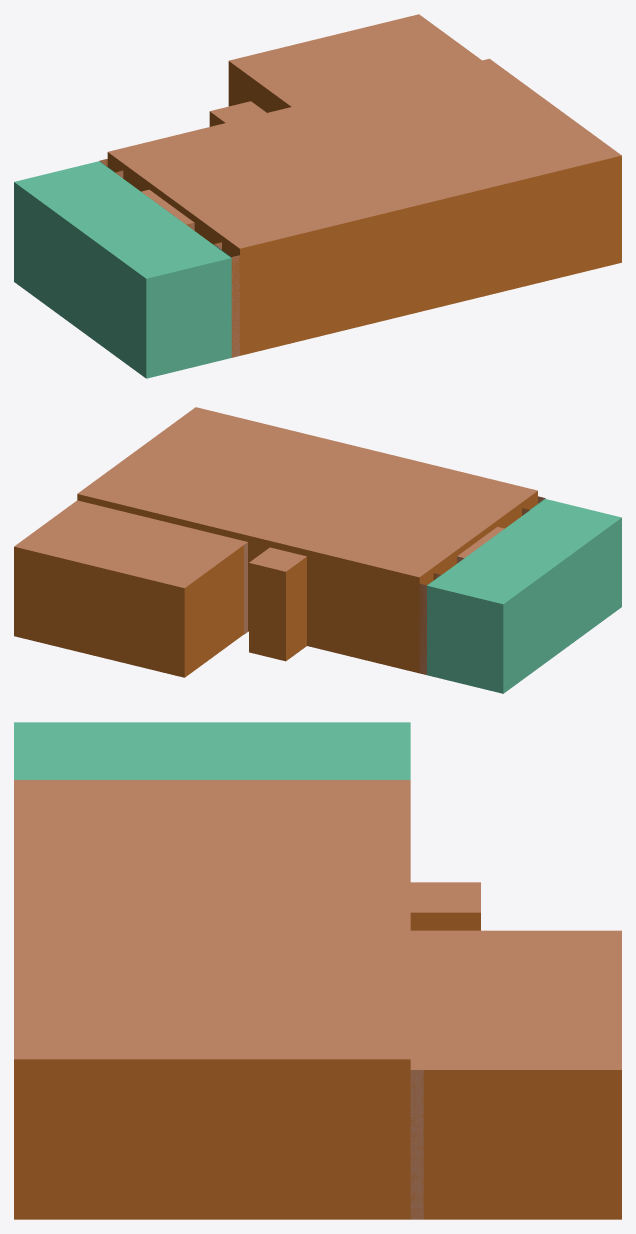
The model's file is office_room.obj.
3 views of the same model, one above another, from view 1: azimuth 30°, elevation 25°; view 2: azimuth 150°, elevation 25°; view 3: azimuth 270°, elevation 25° (orthographic). The views are drawn at different scales.
Parts seen in each view (by area): view 1: Cube; view 2: Cube; view 3: Cube.
Part boxes in pixels (left/top/right/bottom): Cube: left=14, top=14, right=621, bottom=378; Cube: left=14, top=407, right=621, bottom=693; Cube: left=14, top=722, right=621, bottom=1219.
Bounding box in the file's own units: 24.9 × 5.38 × 18.4.
